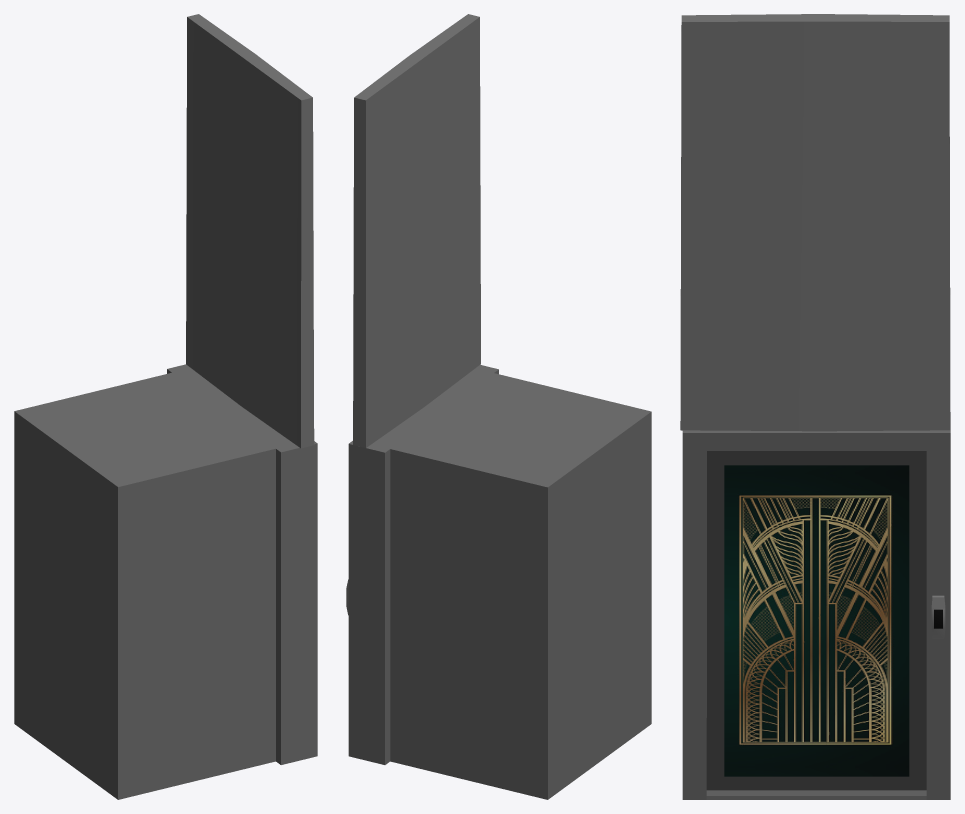
Rendered from ascensor.fbx.
3 views of the same model, side by side, from view 1: azimuth 30°, elevation 25°; view 2: azimuth 150°, elevation 25°; view 3: azimuth 270°, elevation 25° (orthographic). The views are drawn at different scales.
Parts seen in each view (by area): view 1: Ascensor; view 2: Ascensor; view 3: Ascensor.
Part boxes in pixels (box(x1,y1,x2,y2)): Ascensor: box(14, 14, 317, 799); Ascensor: box(346, 14, 651, 799); Ascensor: box(680, 14, 950, 799).
Size of the model in its own units: 200 by 634 by 200.
2 materials, 2 textured.
